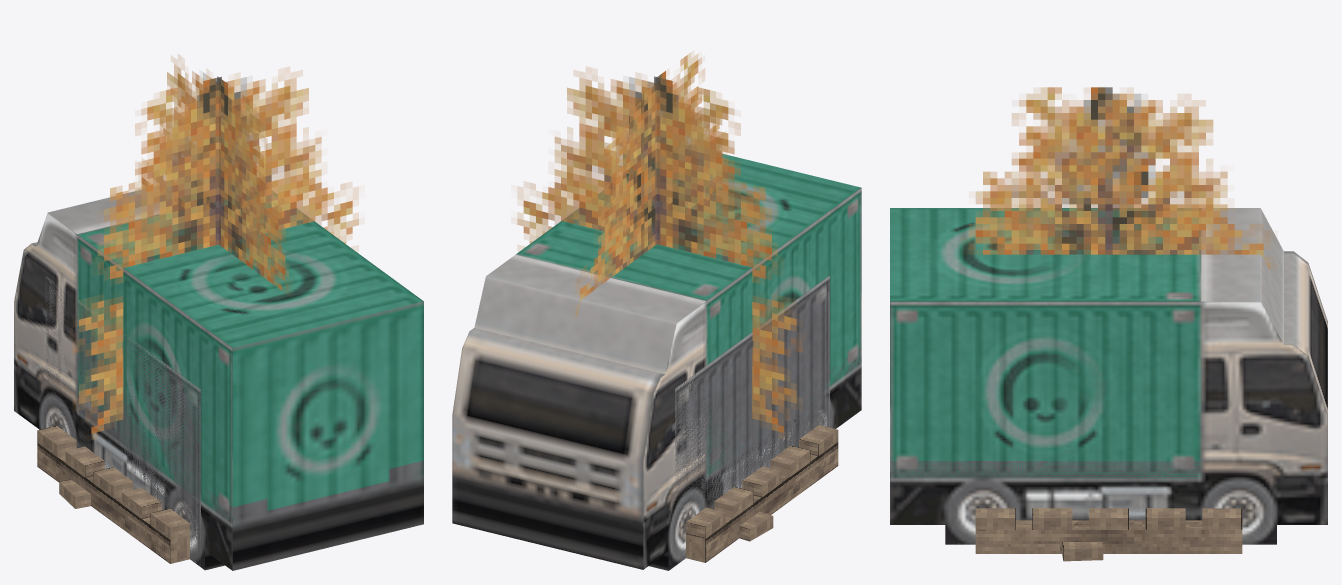
Rendered from urban.glb.
3 views of the same model, side by side, from view 1: azimuth 30°, elevation 25°; view 2: azimuth 150°, elevation 25°; view 3: azimuth 270°, elevation 25° (orthographic).
Parts seen in each view (by area): view 1: truck-green, tree-large, truck-flat, truck-grey-cargo, pallet, tree-pine-large, planks; view 2: truck-flat, tree-large, truck-green, truck-grey-cargo, pallet, tree-pine-large, planks; view 3: truck-green, truck-flat, tree-large, pallet, tree-pine-large, planks.
Part boxes in pixels (box(x1,y1,x2,y2)): truck-green: box(39, 191, 423, 570); tree-large: box(73, 54, 358, 439); truck-flat: box(14, 179, 423, 570); truck-grey-cargo: box(45, 276, 200, 565); pallet: box(37, 425, 189, 563); tree-pine-large: box(154, 72, 271, 270); planks: box(59, 479, 90, 508); truck-flat: box(452, 254, 861, 570); tree-large: box(517, 51, 802, 438); truck-green: box(516, 153, 861, 550); truck-grey-cargo: box(675, 275, 829, 559); pallet: box(686, 425, 838, 562); tree-pine-large: box(604, 74, 721, 260); planks: box(739, 511, 773, 541); truck-green: box(890, 208, 1276, 544); truck-flat: box(890, 208, 1327, 544); tree-large: box(968, 87, 1270, 269); pallet: box(975, 508, 1242, 553); tree-pine-large: box(1034, 87, 1169, 254); planks: box(1062, 520, 1103, 561).
Size of the model in its own units: 1.3 by 1.7 by 1.64.
Materials: 24 (24 with a texture image).
